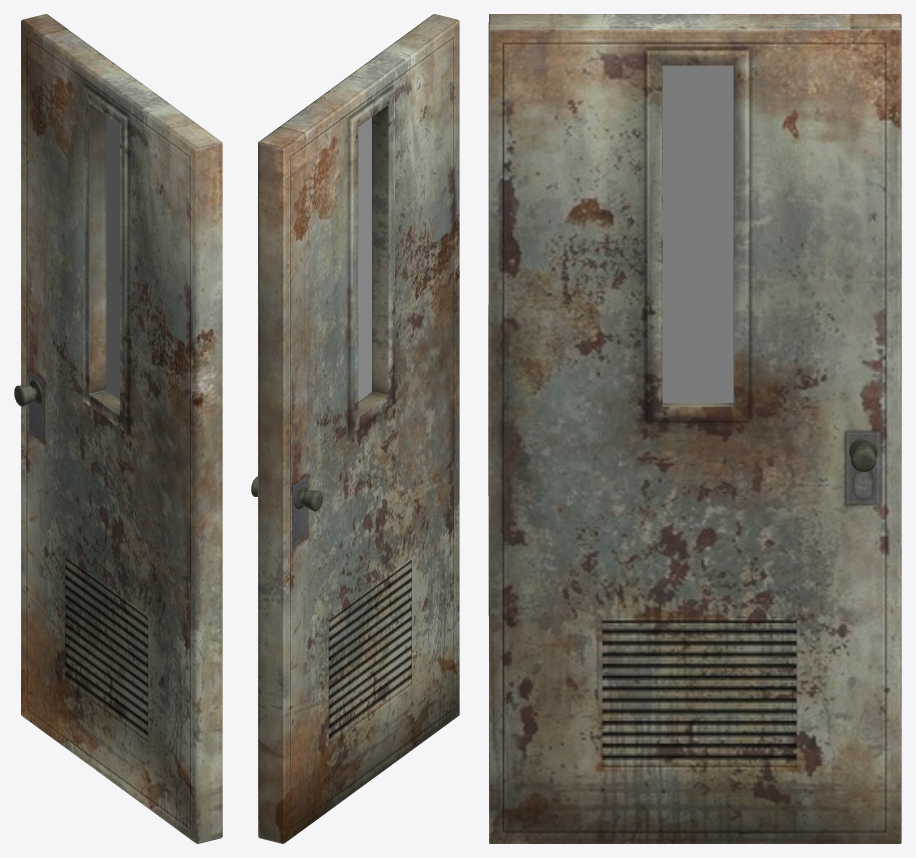
Rendered from vision_door.glb.
The picture shows the model from 3 angles, left to right: view 1: azimuth 30°, elevation 25°; view 2: azimuth 150°, elevation 25°; view 3: azimuth 270°, elevation 25°; orthographic projection. The views are drawn at different scales.
Visible parts, largest first — view 1: door0_SM; view 2: door0_SM; view 3: door0_SM.
Part boxes in pixels (x1,y1,x2,y2): door0_SM: [14, 14, 222, 843]; door0_SM: [251, 14, 459, 843]; door0_SM: [488, 14, 901, 843].
Size of the model in its own units: 0.233 by 2.44 by 1.12.
3 materials, 2 textured.
